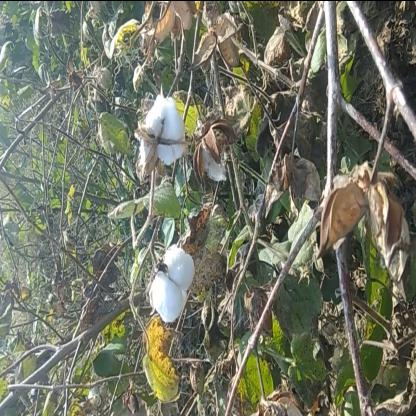cotton_ready: (131, 84, 199, 163), (137, 240, 192, 334)
